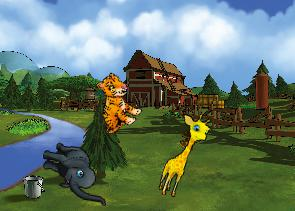elephant: (36, 140, 113, 206)
giraffe: (155, 108, 214, 203)
tiger: (80, 69, 148, 139)
